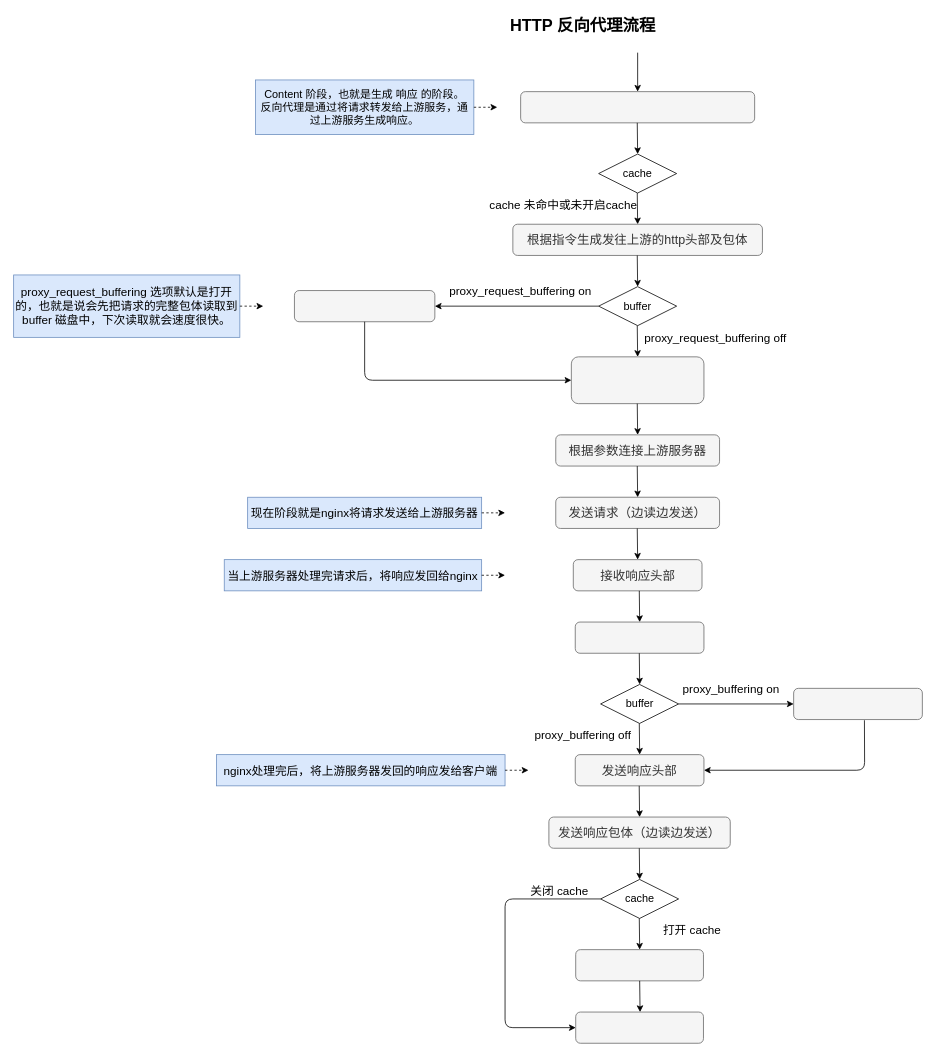
Some shapes in this 936 by 1057 pixel diagram are drawn without their labels. Each missing label, with the centre of its shape:
"关闭或复用连接" goes at [639,1027].
"包体加入缓存" goes at [639,965].
"处理 Content 阶段：proxy_pass 指令" goes at [637,107].
"处理响应头部" goes at [639,637].
"接收完整的响应包体" goes at [857,704].
"根据负载均衡策略 选择上游服务器" goes at [637,380].
"读完请求完整包体" goes at [364,306].
